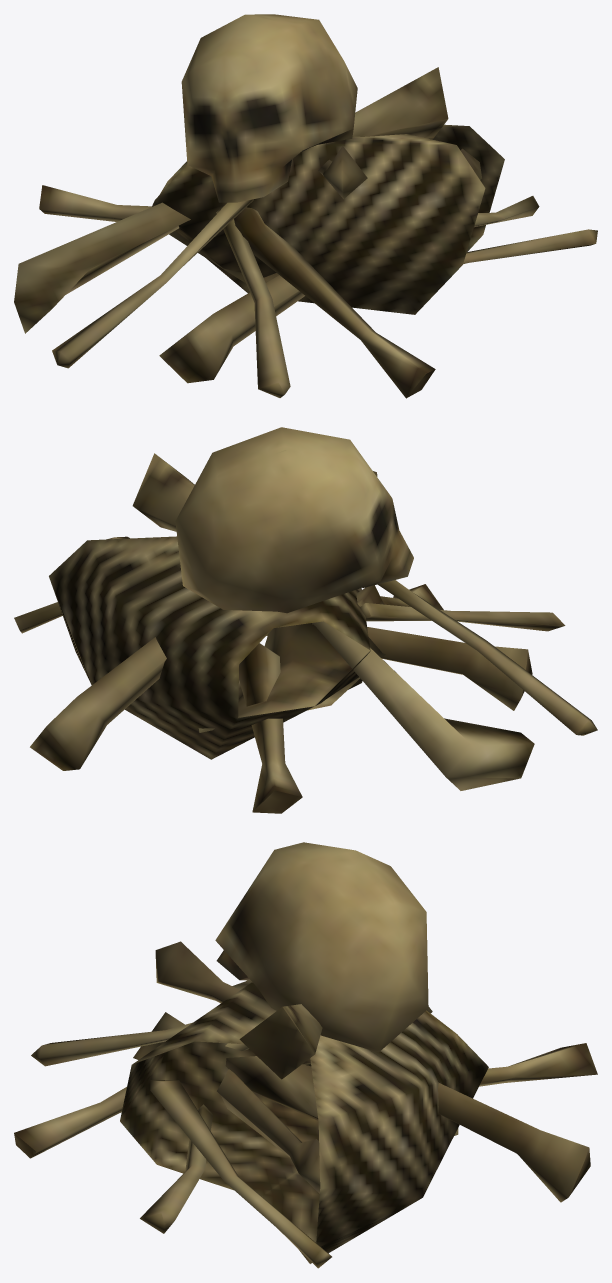
The model's file is Skeleton02.fbx.
The picture shows the model from 3 angles, top to bottom: view 1: azimuth 30°, elevation 25°; view 2: azimuth 150°, elevation 25°; view 3: azimuth 270°, elevation 25°; orthographic projection. The views are drawn at different scales.
Visible parts, largest first — view 1: Skeleton02; view 2: Skeleton02; view 3: Skeleton02.
Boxes of the visible parts, x1,y1,x2,y2 form: Skeleton02: [14, 14, 597, 398]; Skeleton02: [14, 427, 597, 813]; Skeleton02: [14, 842, 597, 1268].
Bounding box in the file's own units: 16.17 × 8.97 × 14.53.
